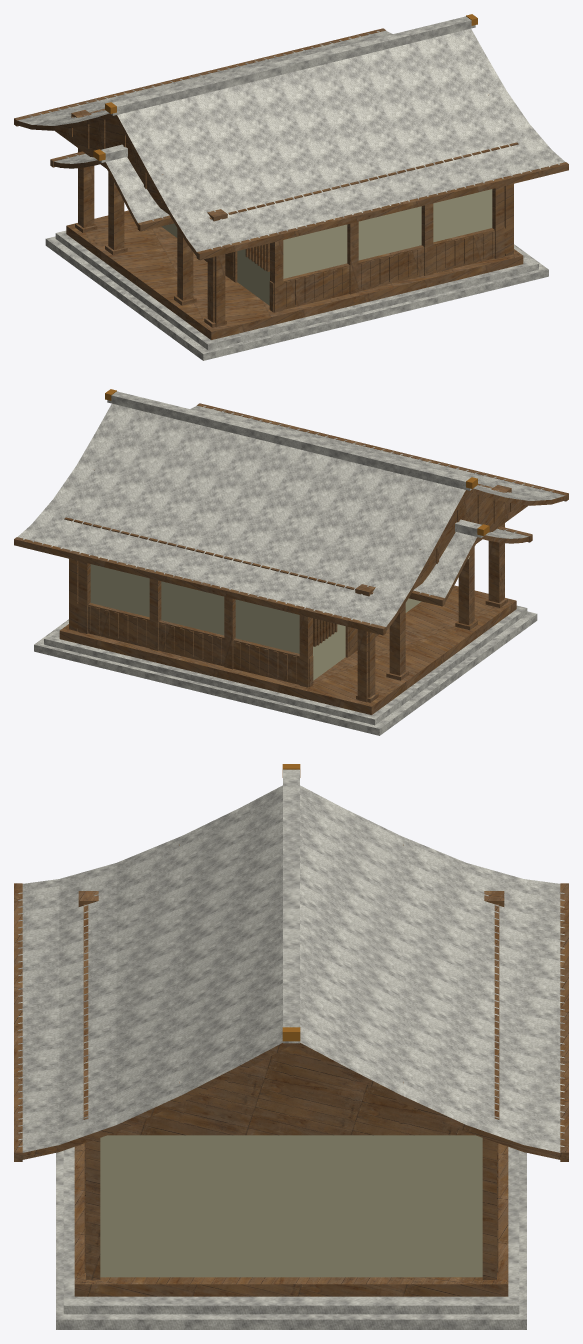
File: shrine-worship-hall.obj
The picture shows the model from 3 angles, top to bottom: view 1: azimuth 30°, elevation 25°; view 2: azimuth 150°, elevation 25°; view 3: azimuth 270°, elevation 25°; orthographic projection. The views are drawn at different scales.
Size of the model in its own units: 10.97 by 5.55 by 9.26.
Materials: 12 (7 with a texture image).
